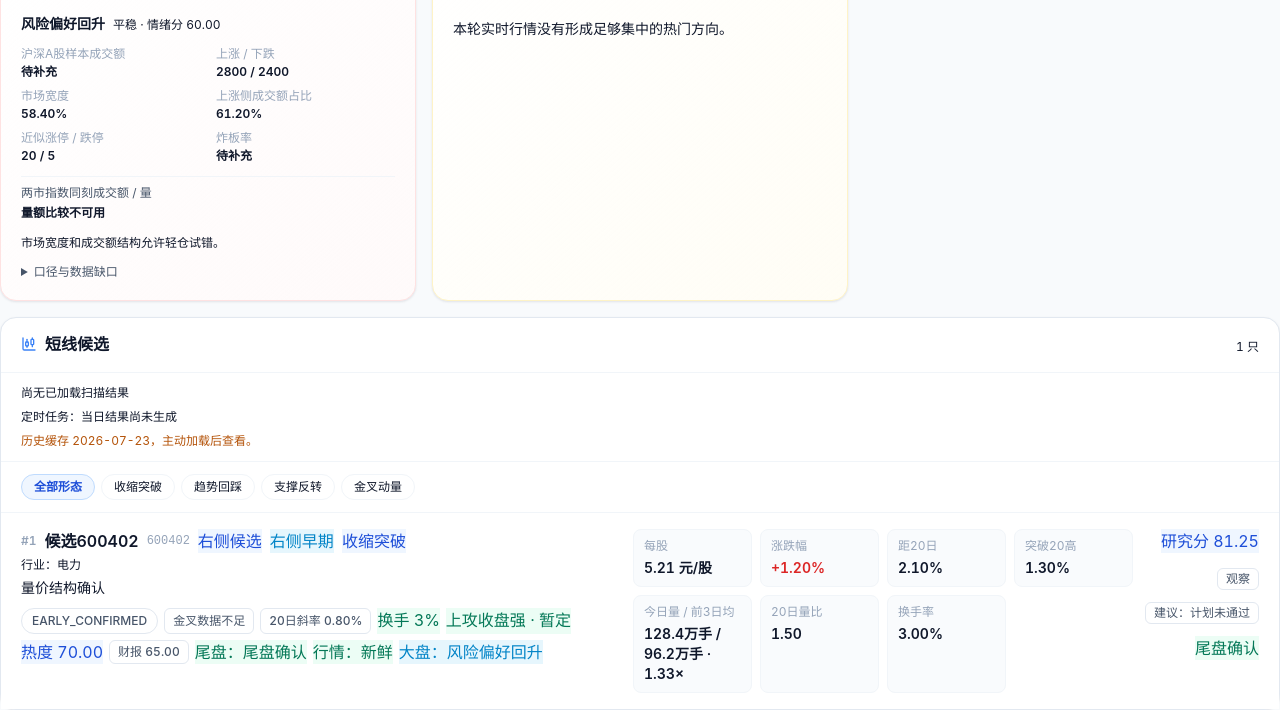
Scenario: ShortTermPage manual scan flow › does not repeat a pre-gate research action when its plan is blocked
(page scrolled)
Click the button that starts with "候选600402".
click(640, 697)  # box x1=1 y1=513 x2=1279 y2=709
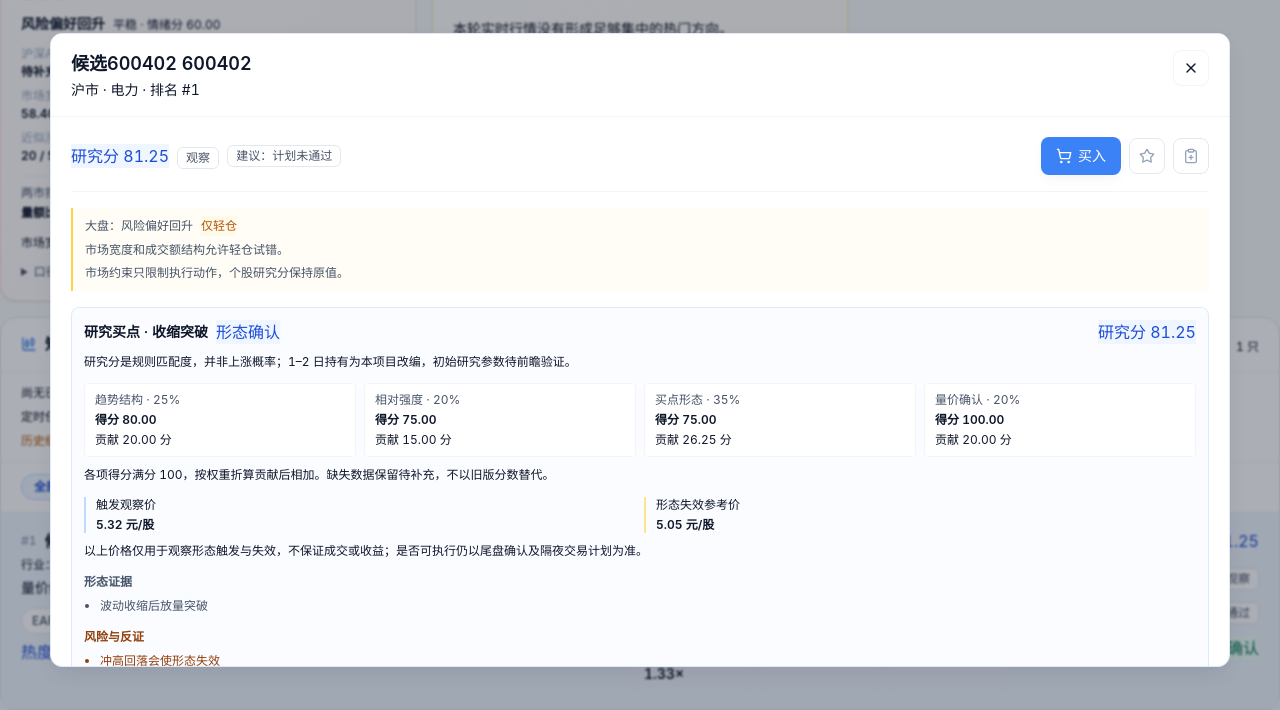
Check: the dialog shows "计划未通过", box x1=272 y1=148 x2=332 y2=163
Check: the element with test id "candidate-execution-status" reads "观察", box x1=186 y1=150 x2=210 y2=165
